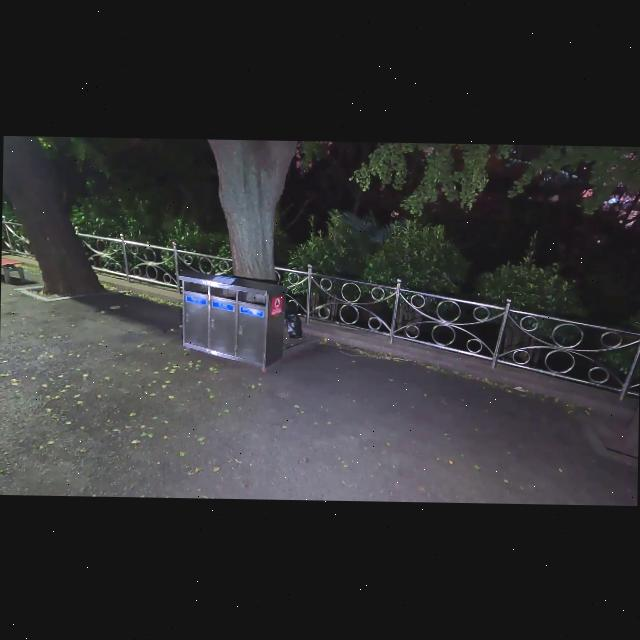trash: (284, 305, 304, 338)
